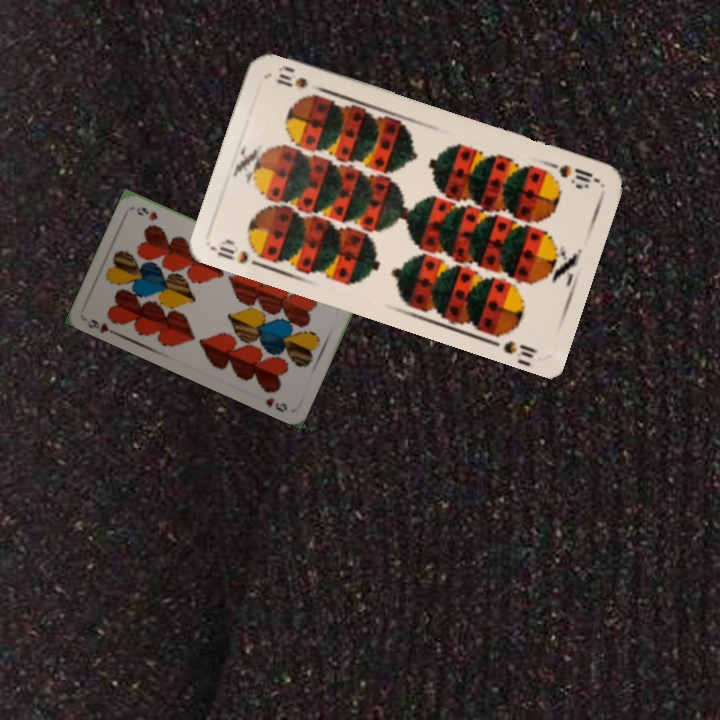H9: (83, 315, 120, 338)
S10: (210, 236, 269, 271), (544, 158, 602, 190)
